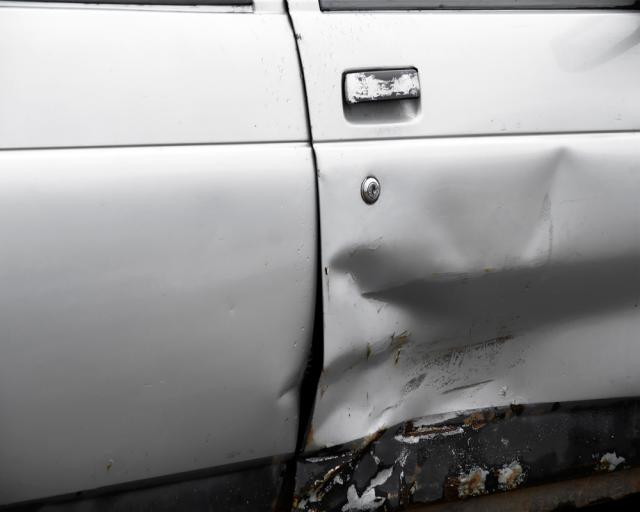dent: (313, 148, 582, 447)
